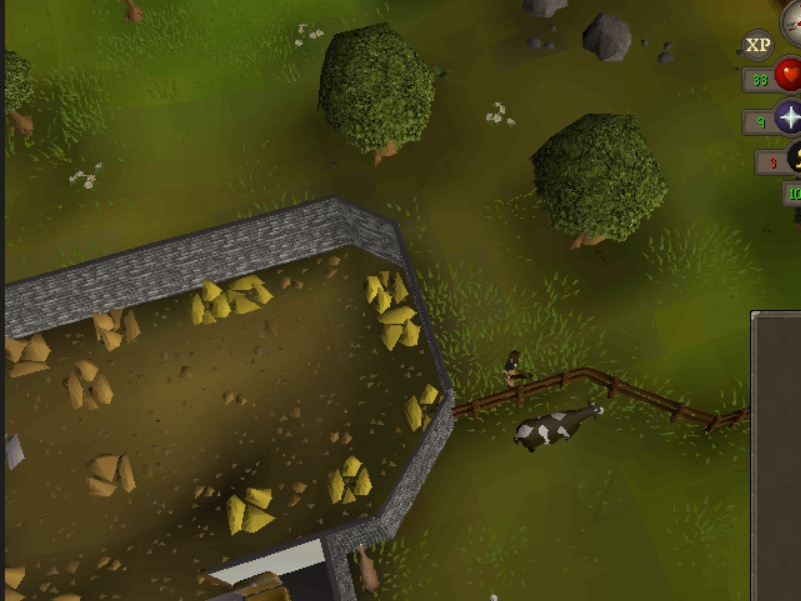clay: (85, 298, 151, 352), (78, 446, 144, 500), (59, 356, 125, 410), (1, 325, 58, 380), (1, 555, 34, 601)
gold: (222, 480, 284, 539), (186, 275, 233, 332), (377, 300, 424, 357), (363, 258, 410, 315), (230, 264, 277, 321), (325, 450, 372, 507), (402, 378, 449, 435)
